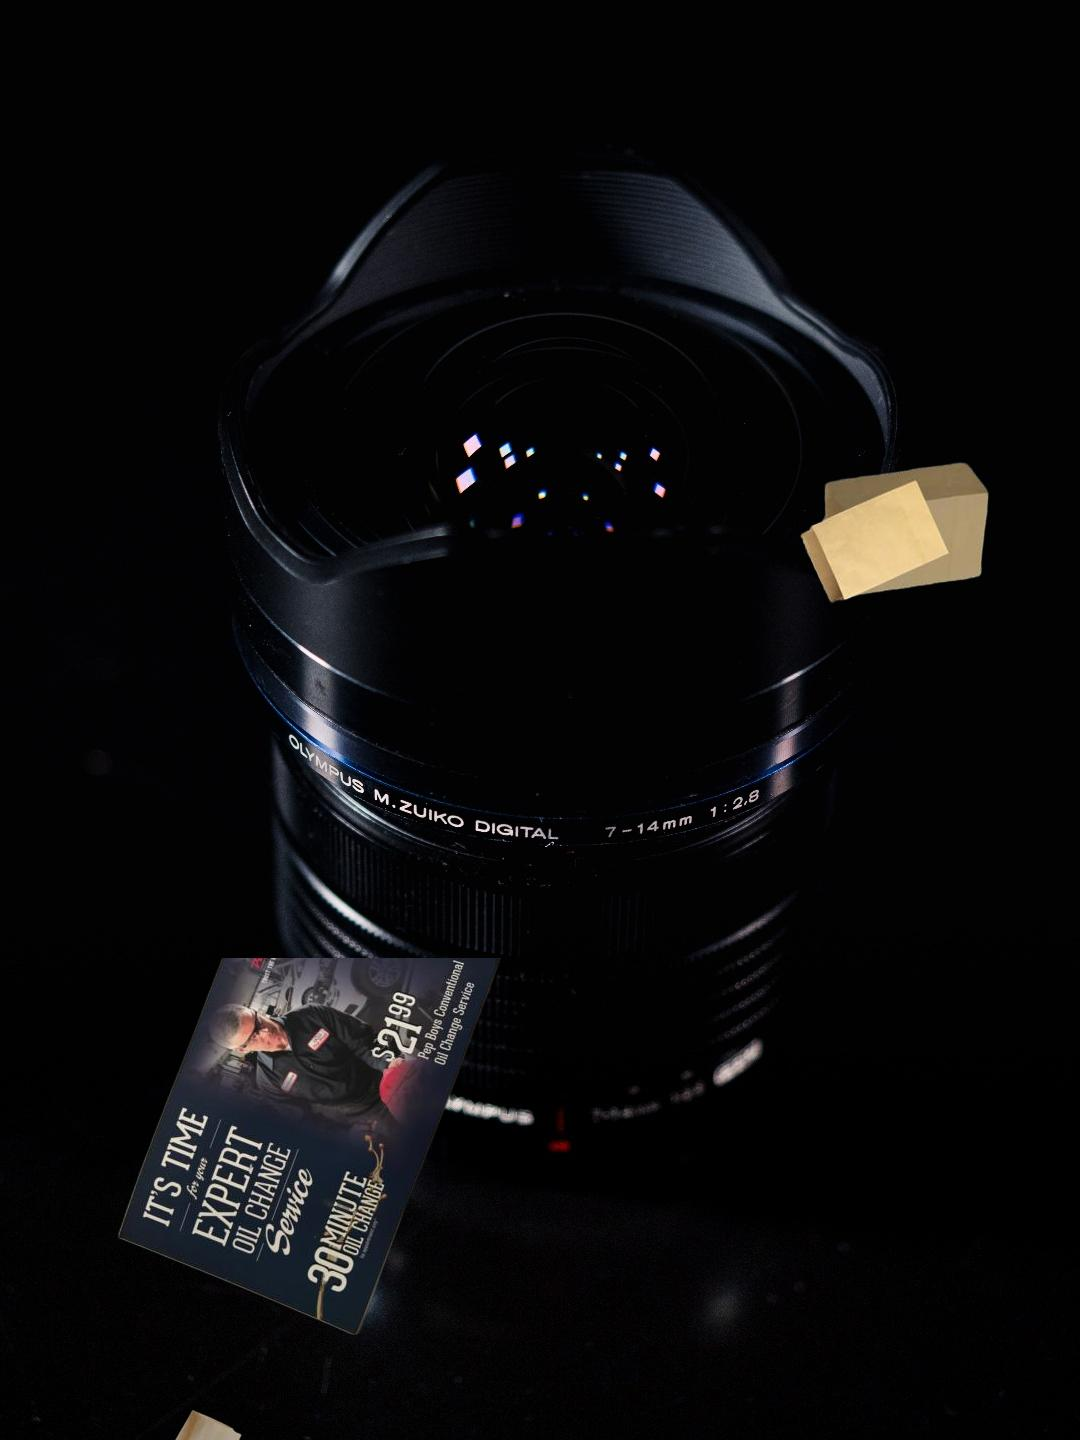paper: (113, 958, 506, 1337)
paper-bag: (798, 459, 990, 607), (143, 1407, 244, 1440)
